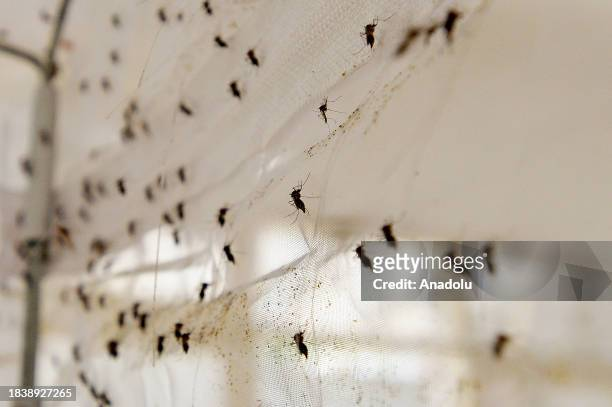Breeding_detected: (286, 177, 315, 226), (356, 13, 388, 55), (288, 331, 317, 362), (94, 338, 131, 362), (239, 48, 269, 72), (226, 78, 248, 108), (172, 168, 197, 190)
